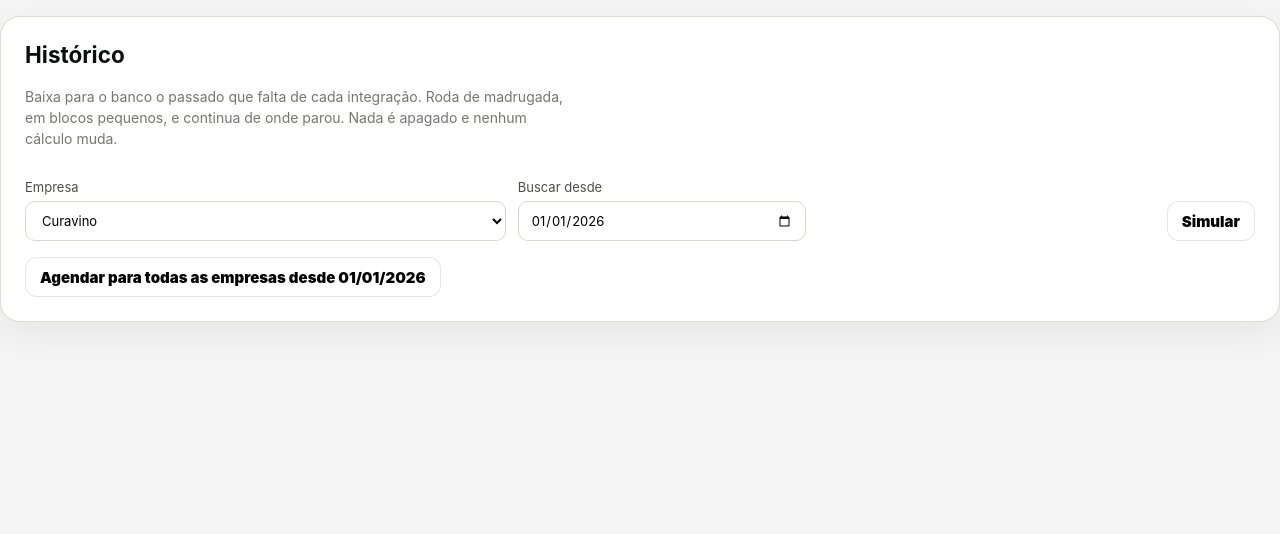
HistoryBackfillPanel › agenda para todas as empresas só depois de confirmar e mostra o resultado
Click the button "Agendar para todas as empresas desde 01/01/2026": (233, 277) 25,257 -> 441,297
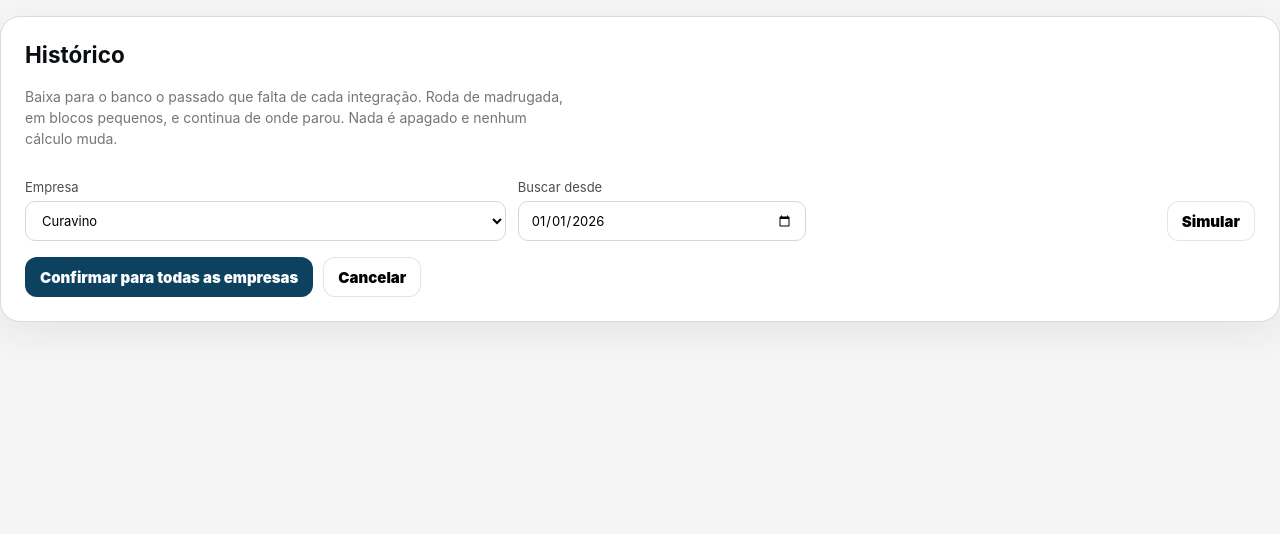
Click the button "Confirmar para todas as empresas": (169, 277) 25,257 -> 313,297
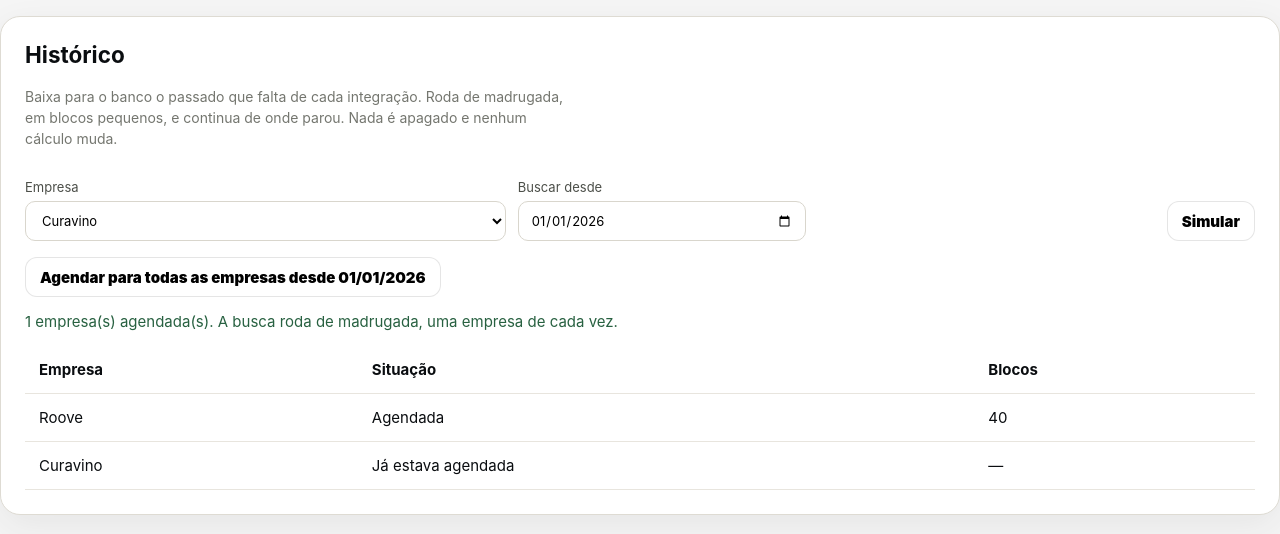
expect the text "1 empresa(s) agendada(s)" is shown: met, box 25,312 -> 618,331
expect the text "Já estava agendada" is shown: met, box 358,442 -> 974,490
